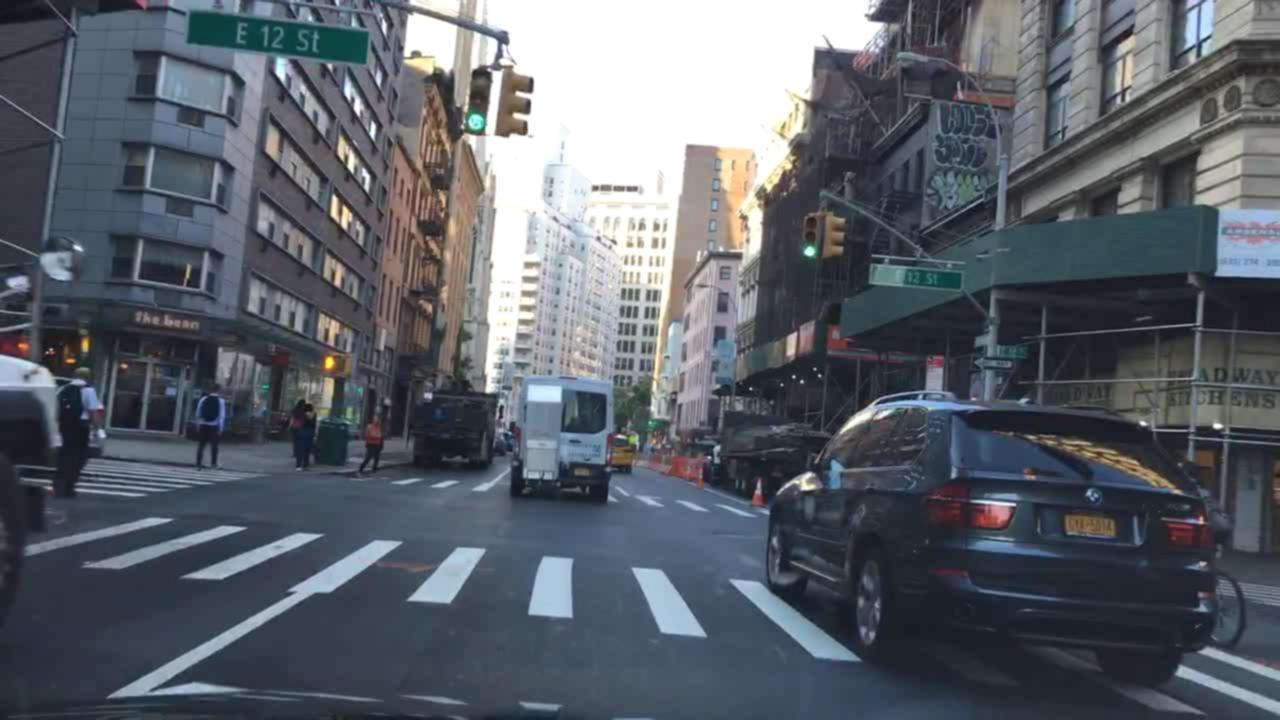bmw: (1083, 486, 1108, 510)
